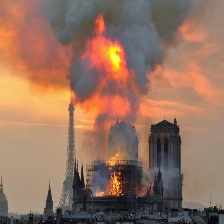fire: (100, 153, 125, 196)
smoke: (10, 1, 212, 136)
